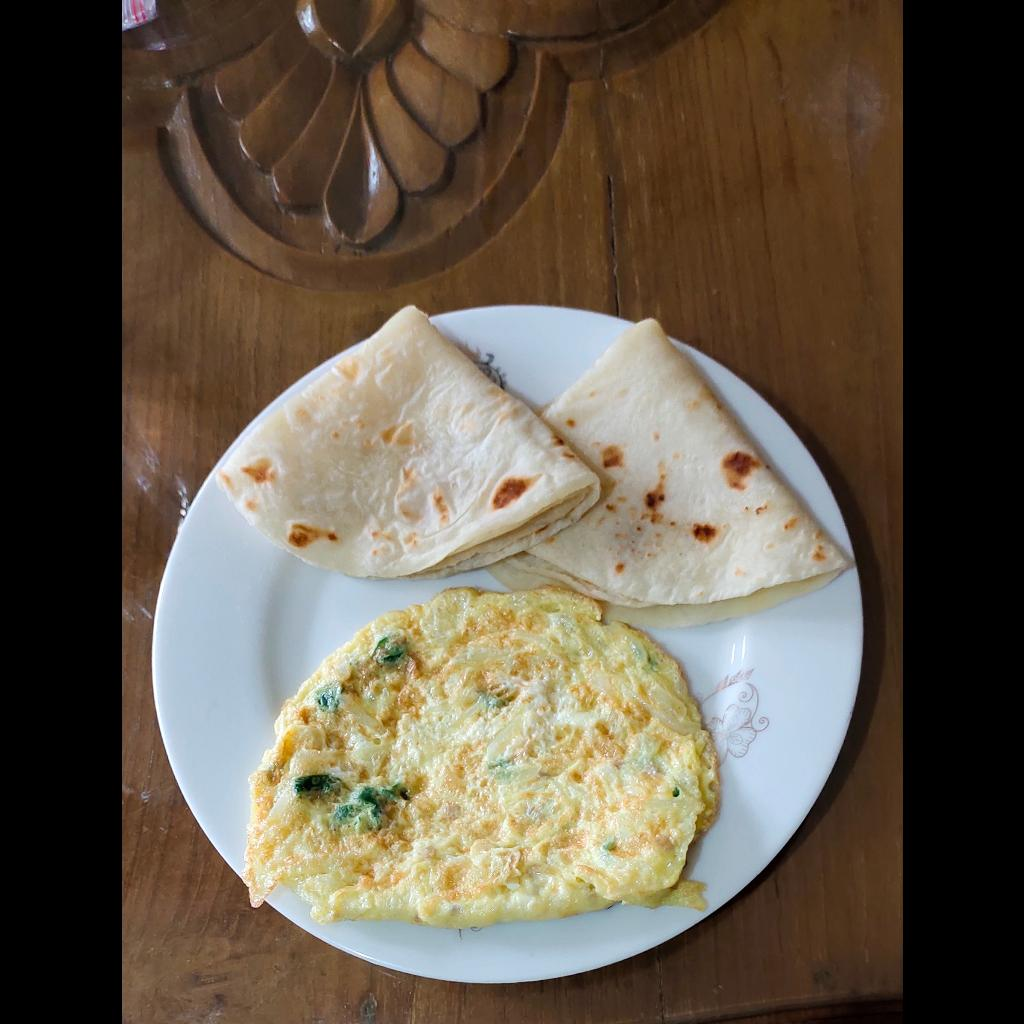egg-poached: (244, 579, 717, 931)
ruti: (215, 301, 851, 628)
